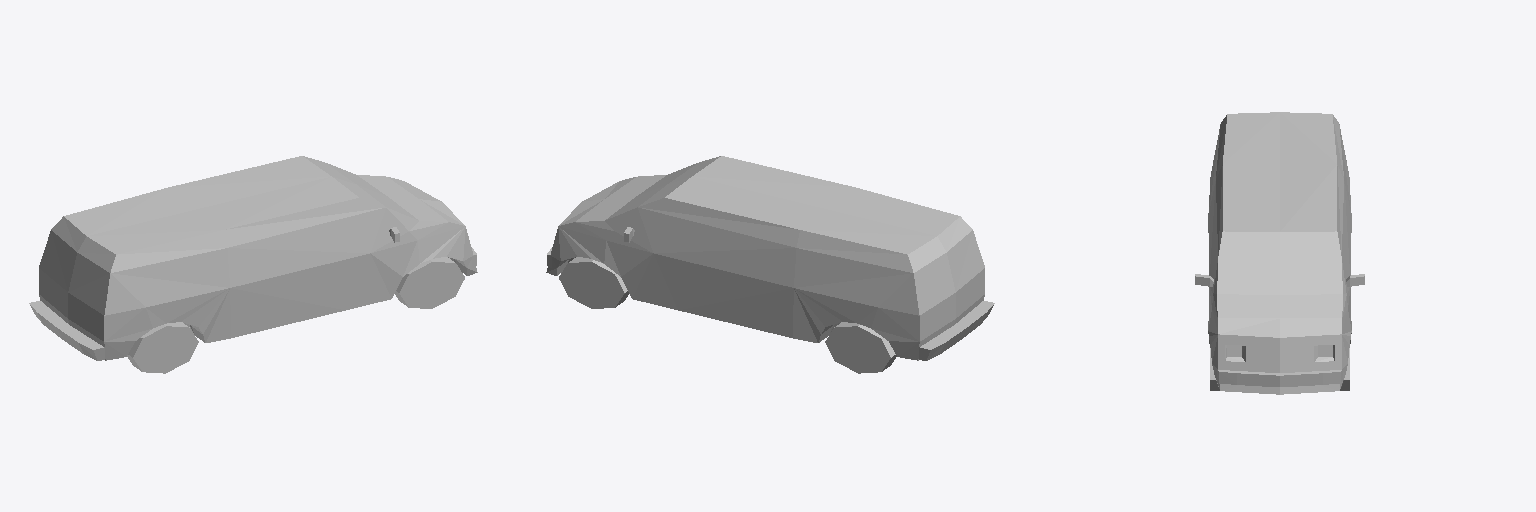
Rendered from Car4_o1.obj.
3 renders of one model, left to right at view 1: azimuth 30°, elevation 25°; view 2: azimuth 150°, elevation 25°; view 3: azimuth 270°, elevation 25°, orthographic.
Visible parts, largest first — view 1: Car4; view 2: Car4; view 3: Car4.
Boxes of the visible parts, <box> form: Car4: <box>29,156,477,373</box>; Car4: <box>546,156,994,373</box>; Car4: <box>1195,112,1364,394</box>.
Bounding box in the file's own units: 5.37 × 1.6 × 1.98.